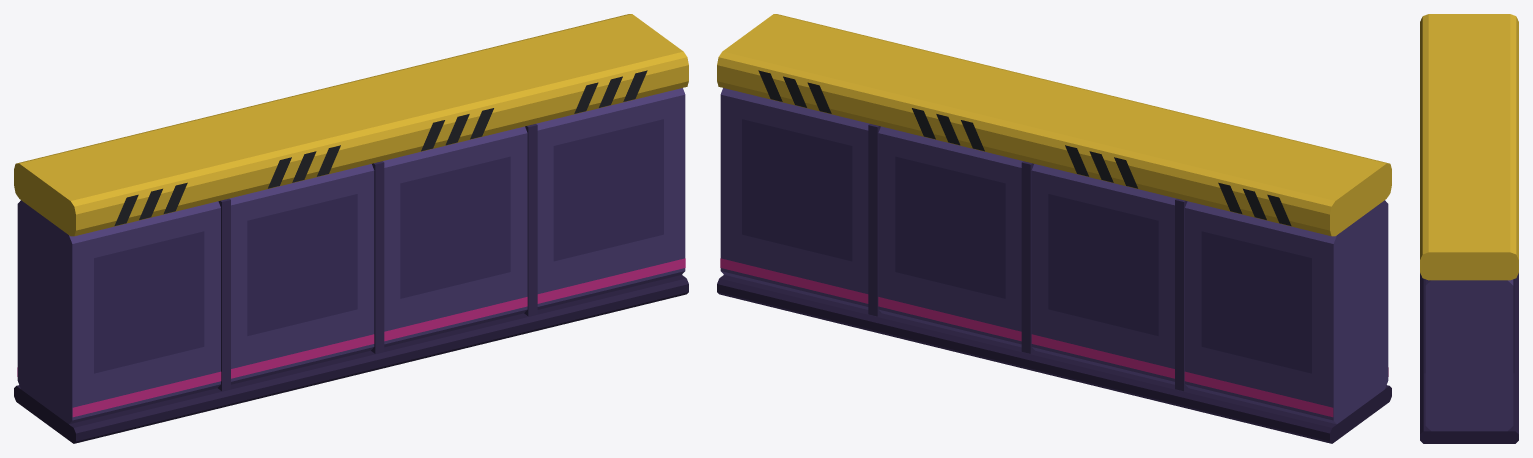
The model's file is neon-border.glb.
The picture shows the model from 3 angles, left to right: view 1: azimuth 30°, elevation 25°; view 2: azimuth 150°, elevation 25°; view 3: azimuth 270°, elevation 25°; orthographic projection. The views are drawn at different scales.
Parts seen in each view (by area): view 1: neon-border; view 2: neon-border; view 3: neon-border.
Boxes of the visible parts, x1,y1,x2,y2 form: neon-border: [14, 14, 688, 443]; neon-border: [717, 14, 1391, 443]; neon-border: [1420, 14, 1518, 443].
Size of the model in its own units: 4 by 1.5 by 0.702.
